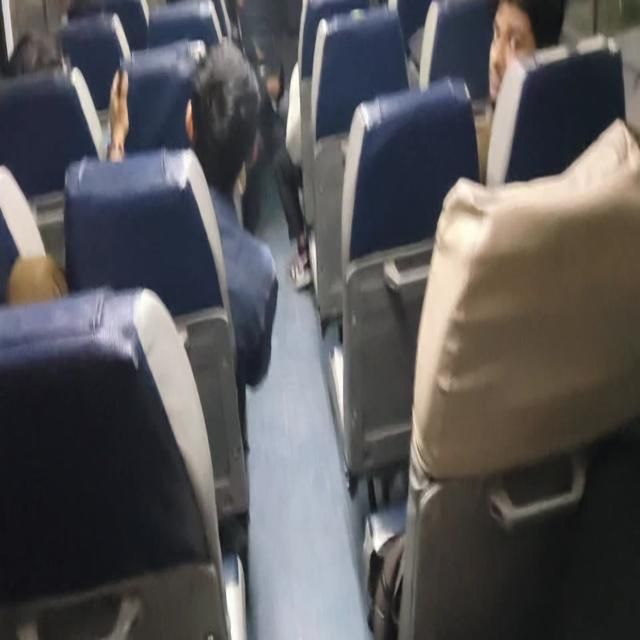person: (106, 38, 279, 452), (6, 26, 130, 162), (473, 0, 565, 182), (6, 27, 66, 77)
